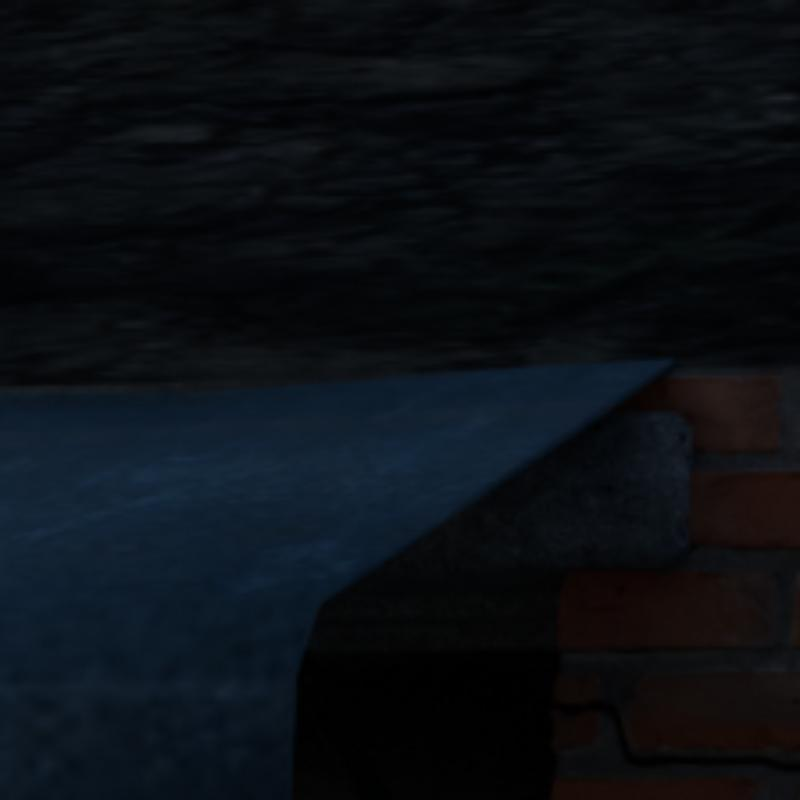pothole: (557, 704, 796, 768)
